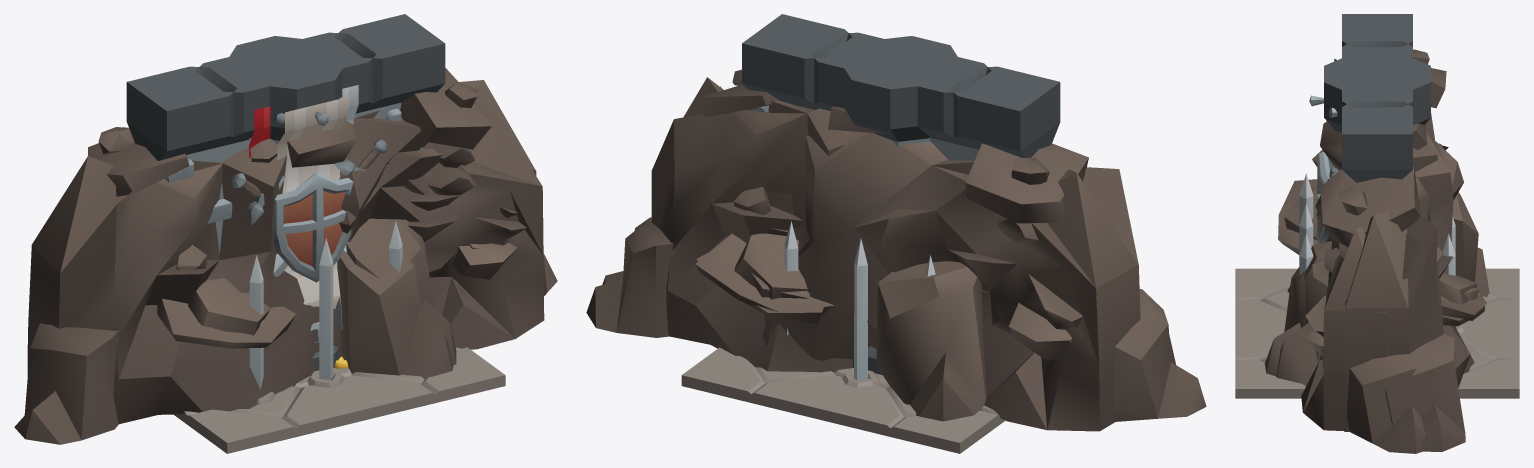
Rendered from dungeon.glb.
The picture shows the model from 3 angles, left to right: view 1: azimuth 30°, elevation 25°; view 2: azimuth 150°, elevation 25°; view 3: azimuth 270°, elevation 25°; orthographic projection. The views are drawn at different scales.
Visible parts, largest first — view 1: rubble_large, wall_doorway, rubble_half, wall_arched, floor_tile_big_spikes, pillar_decorated, pillar, spikes, banner_patternA_red, wall_broken; view 2: rubble_large, rubble_half, wall_doorway, floor_tile_big_spikes, wall_arched, pillar, spikes; view 3: rubble_half, rubble_large, floor_tile_big_spikes, wall_doorway, wall_arched, pillar, spikes, pillar_decorated.
Part boxes in pixels (x1,y1,x2,y2): rubble_large: (14,104,557,444); wall_doorway: (126,14,444,253); rubble_half: (339,68,536,364); wall_arched: (126,14,445,182); floor_tile_big_spikes: (174,347,505,453); pillar_decorated: (232,97,387,308); pillar: (229,36,342,370); spikes: (249,221,402,389); banner_patternA_red: (249,85,358,157); wall_broken: (185,133,422,246); rubble_large: (602,86,1206,431); rubble_half: (586,69,852,372); wall_doorway: (742,14,1059,160); floor_tile_big_spikes: (681,347,1005,453); wall_arched: (744,14,1060,154); pillar: (844,36,957,374); spikes: (784,221,935,380); rubble_half: (1276,144,1485,451); rubble_large: (1264,49,1489,453); floor_tile_big_spikes: (1235,268,1519,398); wall_doorway: (1342,14,1412,182); wall_arched: (1342,14,1412,180); pillar: (1324,58,1430,132); spikes: (1299,173,1455,275); pillar_decorated: (1309,95,1339,243).
Bounding box in the file's own units: 8.13 × 4.4 × 4.
Materials: 1 (1 with a texture image).
